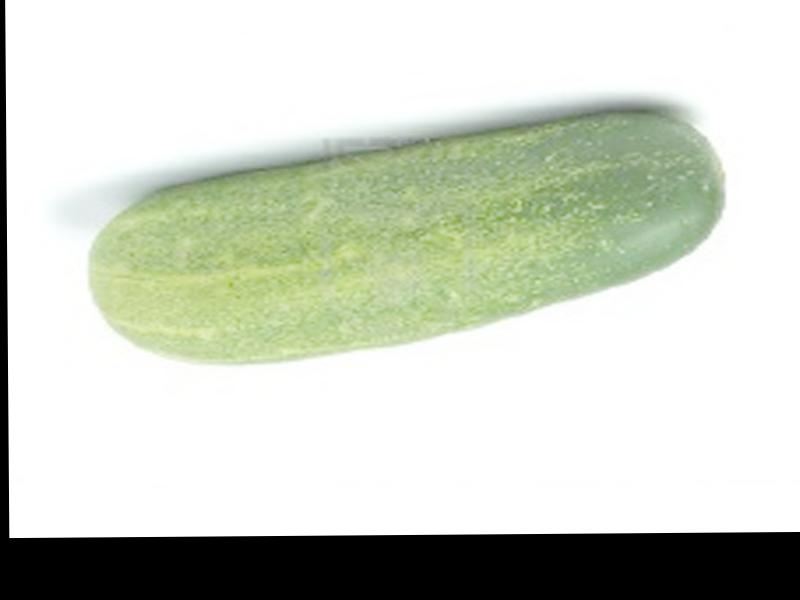Cucumber: (87, 109, 723, 365)
